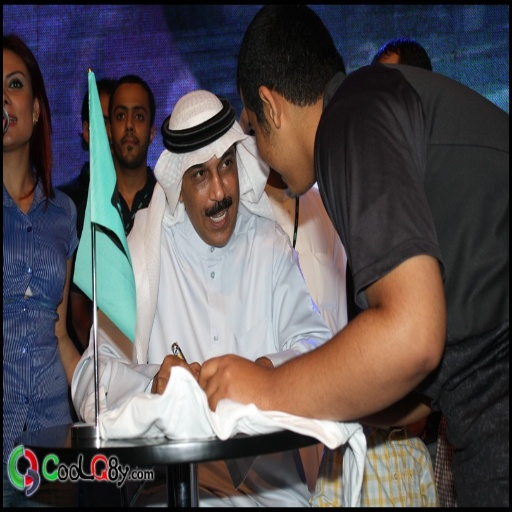hand: (183, 348, 266, 425), (149, 353, 203, 393)
